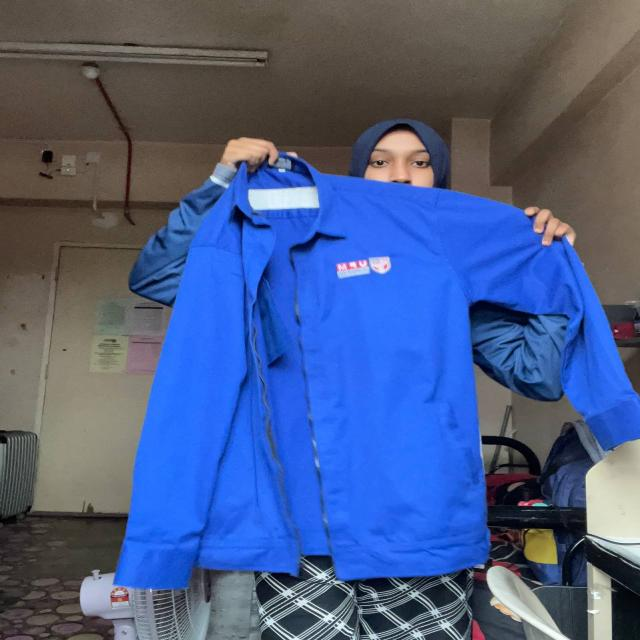person_without_labcoat: (115, 120, 639, 640)
